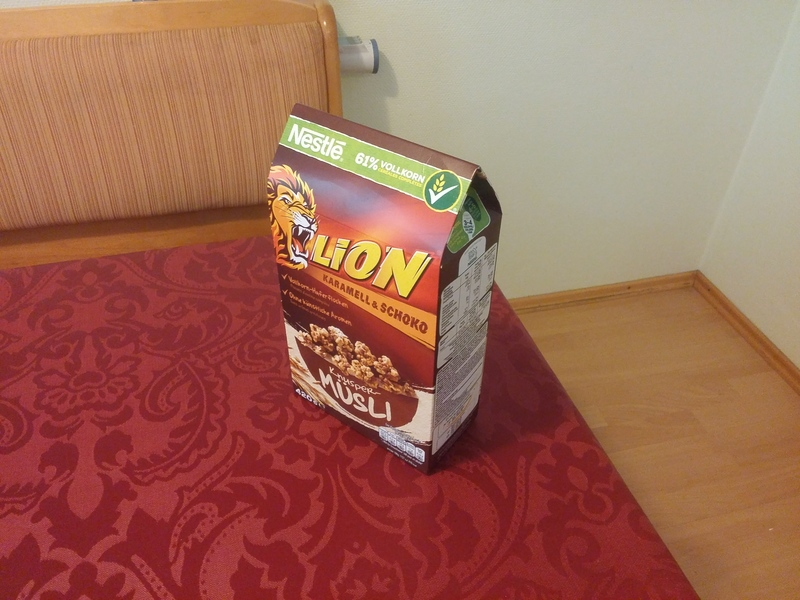cereals: (266, 103, 505, 469)
